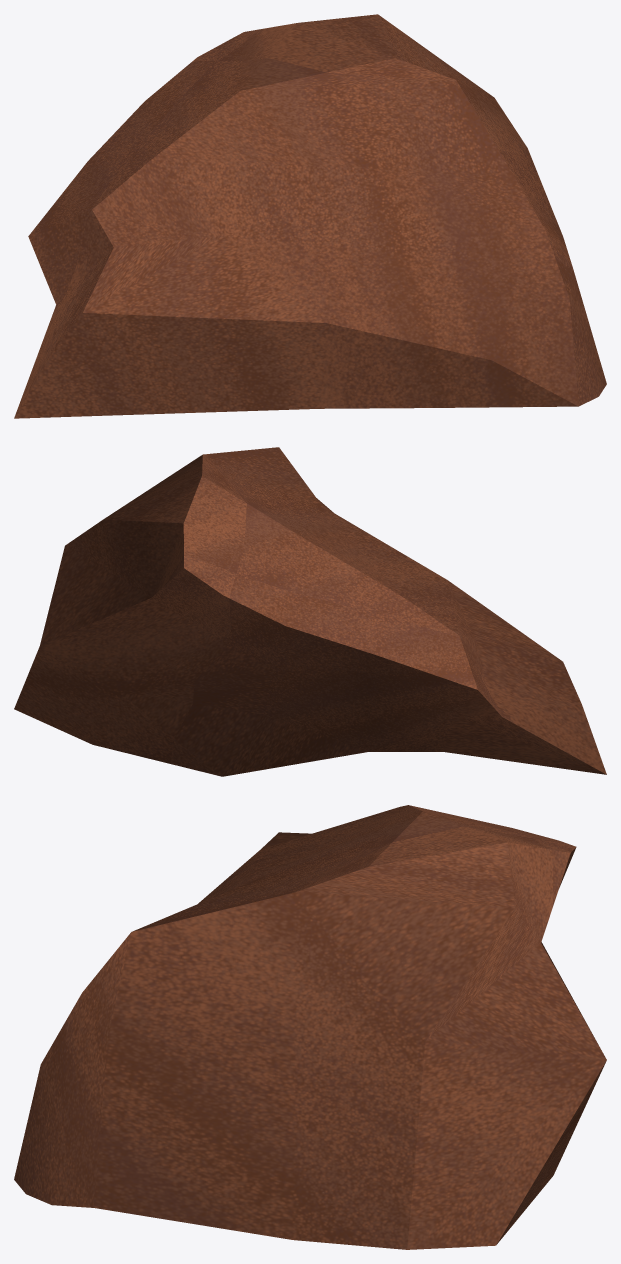
Rendered from Rock10.fbx.
3 views of the same model, one above another, from view 1: azimuth 30°, elevation 25°; view 2: azimuth 150°, elevation 25°; view 3: azimuth 270°, elevation 25° (orthographic). The views are drawn at different scales.
Parts seen in each view (by area): view 1: polySurface4; view 2: polySurface4; view 3: polySurface4.
Boxes of the visible parts, x1,y1,x2,y2 form: polySurface4: (14, 14, 606, 418); polySurface4: (14, 447, 606, 776); polySurface4: (14, 805, 606, 1249).
Size of the model in its own units: 5.94 by 2.51 by 4.57.
